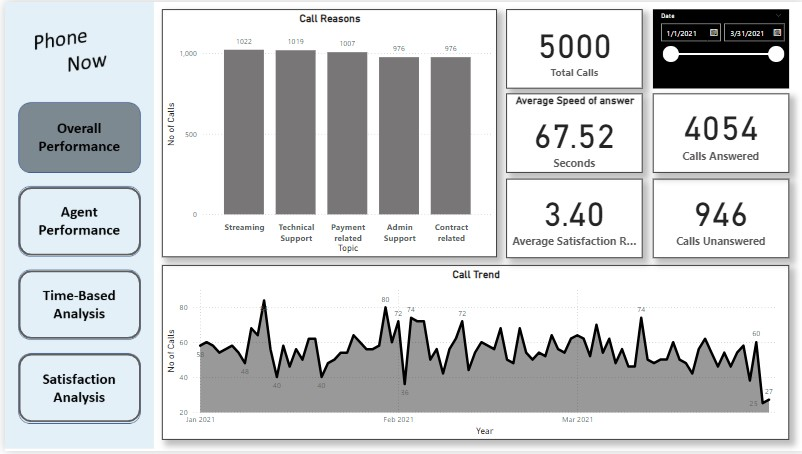

The page's visual inventory and layout, read from the dashboard file:
{"tool":"powerbi","page":{"name":"Overall","canvas":[1280,720],"ordinal":0},"visuals":[{"type":"lineChart","title":"Call Trend","fields":{"Y":["CountNonNull(Call.Call Id)"],"Category":["Call.Date.Variation.Date Hierarchy.Year","Call.Date.Variation.Date Hierarchy.Quarter","Call.Date.Variation.Date Hierarchy.Month","Call.Date.Variation.Date Hierarchy.Day"]},"box":[251.7,421.7,1005,280],"z":0},{"type":"slicer","fields":{"Values":["Call.Date"]},"box":[1038.3,11.7,218.3,126.7],"z":1000},{"type":"columnChart","title":"Call Reasons","fields":{"Category":["Call.Topic"],"Y":["CountNonNull(Call.Call Id)"]},"box":[251.2,11.2,536.2,397.5],"z":2000},{"type":"card","fields":{"Values":["CountNonNull(Call.Call Id)"]},"box":[803.3,11.7,218.3,126.7],"z":3000},{"type":"card","title":"Average Speed of answer","fields":{"Values":["Call.Average speed of answer"]},"box":[803.3,146.7,218.3,126.7],"z":4000},{"type":"card","title":"Average Speed of answer","fields":{"Values":["Call.AvgSatisfactionRating"]},"box":[803.3,283.3,218.3,126.7],"z":5000},{"type":"card","title":"Average Speed of answer","fields":{"Values":["CountNonNull(Call.Answered (Y/N))"]},"box":[1038.3,283.3,218.3,126.7],"z":6000},{"type":"card","title":"Average Speed of answer","fields":{"Values":["CountNonNull(Call.Answered (Y/N))"]},"box":[1038.3,146.7,218.3,126.7],"z":7000},{"type":"actionButton","box":[22,296,196,110],"z":8000},{"type":"actionButton","box":[22,430,196,110],"z":9000},{"type":"actionButton","box":[22,564,196,110],"z":10000}]}

Visuals, with their boxes in screenshot pixels (x1, y1, x2, y2), scaled from the page's 1280x720 canvas onto the 802x454 screenshot:
"Call Trend" lineChart: <bbox>158, 266, 787, 442</bbox>
slicer - Call.Date: <bbox>651, 7, 787, 87</bbox>
"Call Reasons" columnChart: <bbox>157, 7, 493, 258</bbox>
card - CountNonNull(Call.Call Id): <bbox>503, 7, 640, 87</bbox>
"Average Speed of answer" card: <bbox>503, 93, 640, 172</bbox>
"Average Speed of answer" card: <bbox>503, 179, 640, 259</bbox>
"Average Speed of answer" card: <bbox>651, 179, 787, 259</bbox>
"Average Speed of answer" card: <bbox>651, 93, 787, 172</bbox>
actionButton: <bbox>14, 187, 137, 256</bbox>
actionButton: <bbox>14, 271, 137, 340</bbox>
actionButton: <bbox>14, 356, 137, 425</bbox>
